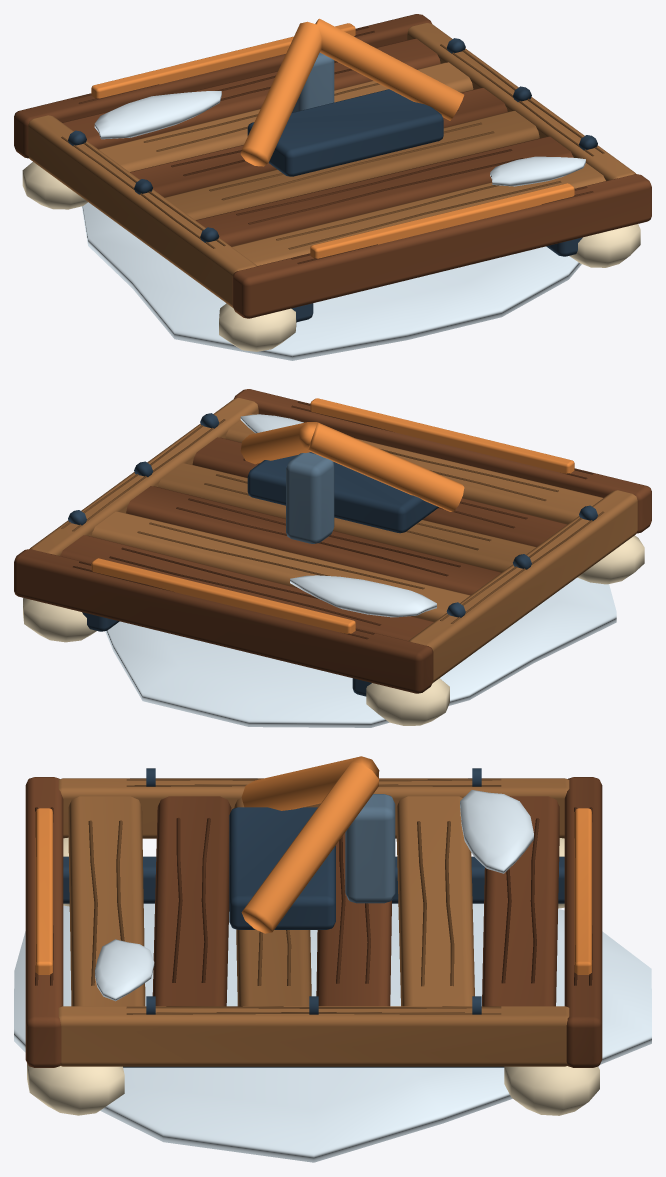
File: pad_upgrade.glb
3 renders of one model, top to bottom at view 1: azimuth 30°, elevation 25°; view 2: azimuth 150°, elevation 25°; view 3: azimuth 270°, elevation 25°, orthographic. The views are drawn at different scales.
Visible parts, largest first — view 1: pad_upgrade; view 2: pad_upgrade; view 3: pad_upgrade.
Boxes of the visible parts, x1=… form: pad_upgrade: x1=14, y1=14, x2=651, y2=360; pad_upgrade: x1=14, y1=389, x2=651, y2=727; pad_upgrade: x1=14, y1=756, x2=651, y2=1162.
Size of the model in its own units: 2.14 by 0.9623 by 2.04.
